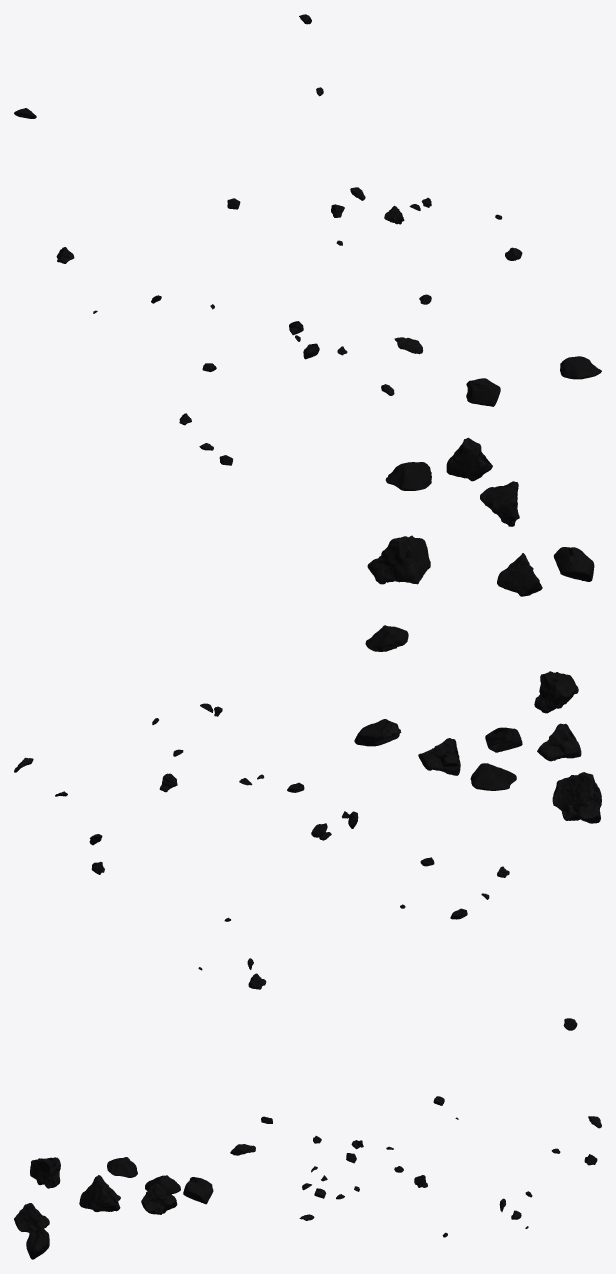
Rendered from fragments-capped-web.glb.
3 views of the same model, one above another, from view 1: azimuth 30°, elevation 25°; view 2: azimuth 150°, elevation 25°; view 3: azimuth 270°, elevation 25° (orthographic). The views are drawn at different scales.
Visible parts, largest first — view 1: Floating_Scan_03, Hero_Fracture, Foreground_Left_Soft, Foreground_Upper_Left_Soft, Floating_Scan_00, Foreground_Right_Soft, Floating_Scan_01; view 2: Floating_Scan_03, Foreground_Upper_Left_Soft, Foreground_Left_Soft, Floating_Scan_00, Hero_Fracture, Floating_Scan_04, Foreground_Right_Soft, Floating_Scan_01; view 3: Floating_Scan_03, Foreground_Upper_Left_Soft, Hero_Fracture, Foreground_Left_Soft, Floating_Scan_01, Foreground_Right_Soft, Floating_Scan_04, Floating_Scan_00.
Part boxes in pixels (x1,y1,x2,y2): Floating_Scan_03: [367, 535, 430, 584]; Hero_Fracture: [446, 437, 492, 481]; Foreground_Left_Soft: [497, 553, 542, 596]; Foreground_Upper_Left_Soft: [480, 481, 519, 526]; Floating_Scan_00: [385, 462, 431, 490]; Foreground_Right_Soft: [553, 547, 594, 581]; Floating_Scan_01: [466, 378, 500, 406]; Floating_Scan_03: [552, 772, 601, 823]; Foreground_Upper_Left_Soft: [534, 671, 578, 713]; Foreground_Left_Soft: [537, 723, 581, 761]; Floating_Scan_00: [470, 763, 516, 790]; Hero_Fracture: [418, 738, 460, 775]; Floating_Scan_04: [365, 625, 408, 651]; Foreground_Right_Soft: [485, 727, 522, 752]; Floating_Scan_01: [354, 719, 399, 746]; Floating_Scan_03: [79, 1175, 120, 1211]; Foreground_Upper_Left_Soft: [30, 1157, 60, 1188]; Hero_Fracture: [141, 1183, 177, 1214]; Foreground_Left_Soft: [14, 1203, 49, 1233]; Floating_Scan_01: [183, 1177, 213, 1204]; Foreground_Right_Soft: [26, 1227, 49, 1259]; Floating_Scan_04: [107, 1157, 137, 1177]; Floating_Scan_00: [145, 1175, 180, 1194].
Bounding box in the file's own units: 17.33 × 12 × 35.2.
Materials: 4 (4 with a texture image).
